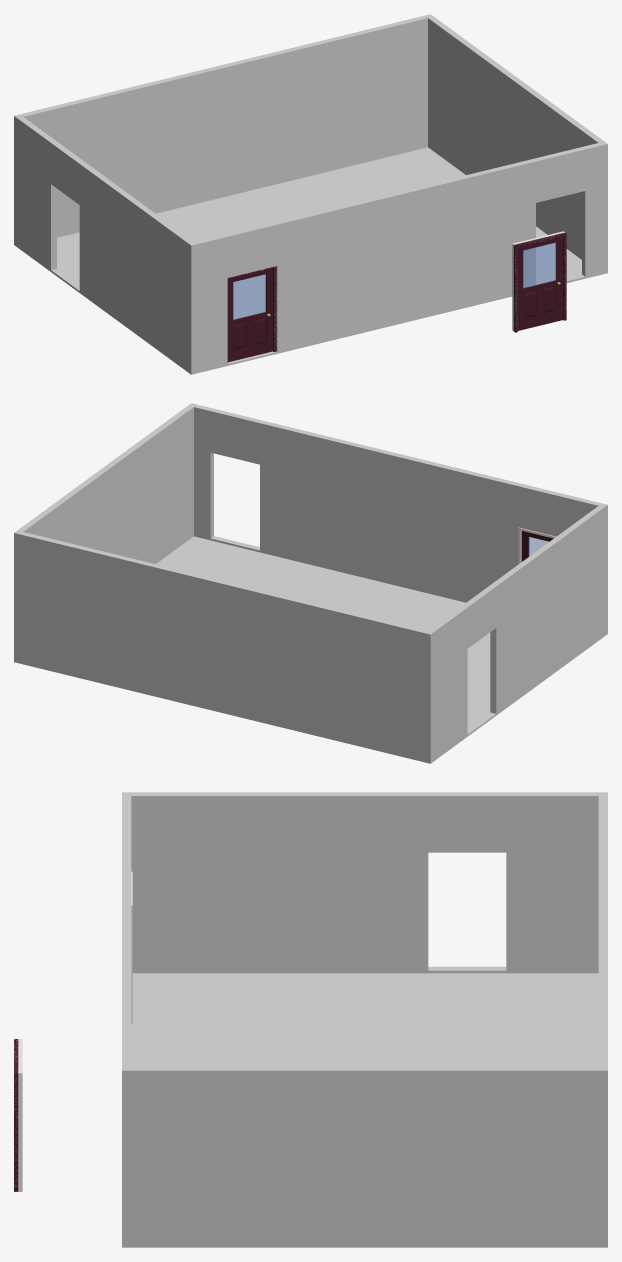
File: murat8.dae
3 renders of one model, top to bottom at view 1: azimuth 30°, elevation 25°; view 2: azimuth 150°, elevation 25°; view 3: azimuth 270°, elevation 25°, orthographic. The views are drawn at different scales.
Visible parts, largest first — view 1: group_1 (×3), group_6 (×2), group_5 (×2), group_3 (×2); view 2: group_1 (×4); view 3: group_1 (×2), group_3, group_4.
Part boxes in pixels (x1=…): group_1 (×3): x1=14, y1=14, x2=607, y2=374; group_6 (×2): x1=228, y1=236, x2=562, y2=362; group_5 (×2): x1=233, y1=243, x2=555, y2=319; group_3 (×2): x1=227, y1=232, x2=566, y2=363; group_1 (×4): x1=14, y1=403, x2=607, y2=763; group_1 (×2): x1=122, y1=792, x2=607, y2=1247; group_3: x1=14, y1=1039, x2=18, y2=1191; group_4: x1=18, y1=1039, x2=22, y2=1191.
Size of the model in its own units: 384 by 346 by 114.
